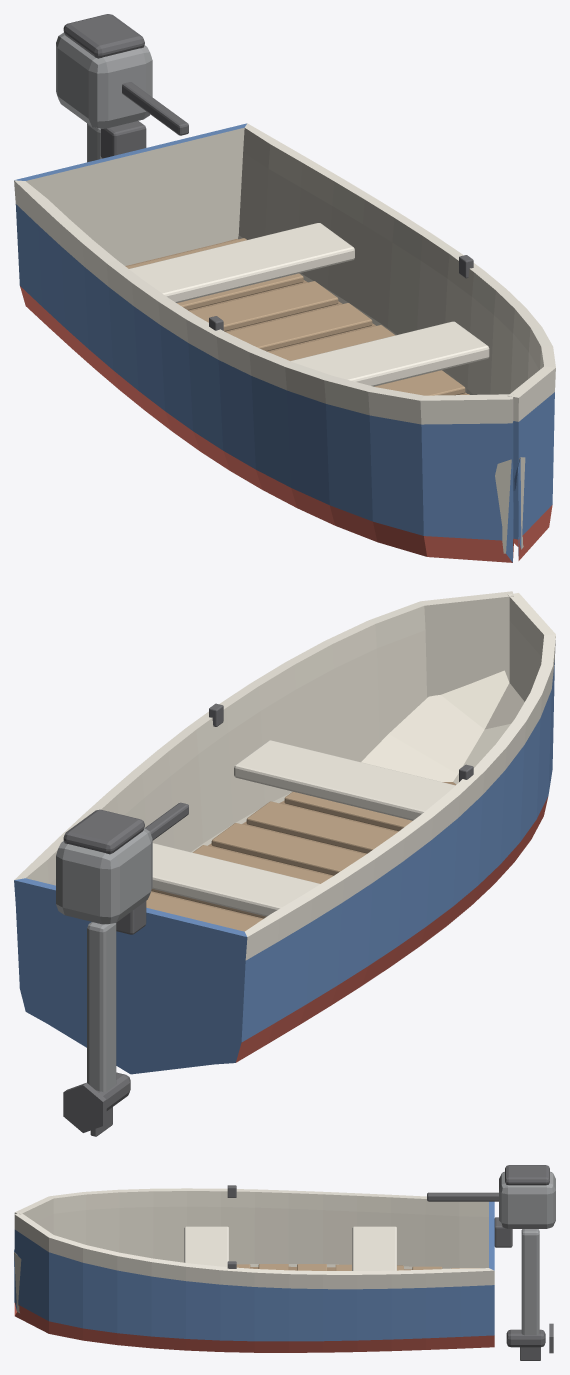
Rendered from boat.glb.
3 views of the same model, one above another, from view 1: azimuth 30°, elevation 25°; view 2: azimuth 150°, elevation 25°; view 3: azimuth 270°, elevation 25° (orthographic). The views are drawn at different scales.
Visible parts, largest first — view 1: boat_hull, boat_thwart_rear, boat_thwart_front, motor_cowl, boat_floor_2, boat_floor_3, motor_cap, boat_floor_4, boat_floor_6, motor_clamp, boat_floor_1, motor_tiller (+1 smaller); view 2: boat_hull, boat_thwart_front, motor_cowl, boat_thwart_rear, motor_shaft, boat_floor_6, boat_floor_7, motor_cap, boat_floor_3, boat_floor_8, motor_prop, boat_floor_5 (+2 smaller); view 3: boat_hull, motor_cowl, boat_thwart_rear, motor_shaft, boat_thwart_front, motor_cap, motor_tiller, motor_foot, motor_clamp, motor_skeg.
Boxes of the visible parts, left/top/right/bottom form: boat_hull: left=14, top=123, right=555, bottom=562; boat_thwart_rear: left=129, top=223, right=354, bottom=302; boat_thwart_front: left=290, top=321, right=489, bottom=386; motor_cowl: left=56, top=32, right=152, bottom=128; boat_floor_2: left=190, top=281, right=338, bottom=331; boat_floor_3: left=226, top=303, right=372, bottom=351; motor_cap: left=63, top=14, right=144, bottom=58; boat_floor_4: left=269, top=325, right=395, bottom=360; boat_floor_6: left=374, top=370, right=465, bottom=395; motor_clamp: left=100, top=121, right=146, bottom=158; boat_floor_1: left=177, top=273, right=303, bottom=310; motor_tiller: left=122, top=82, right=188, bottom=135; boat_hull: left=14, top=591, right=555, bottom=1074; boat_thwart_front: left=234, top=740, right=455, bottom=820; motor_cowl: left=56, top=828, right=152, bottom=924; boat_thwart_rear: left=152, top=843, right=319, bottom=916; motor_shaft: left=87, top=922, right=116, bottom=1092; boat_floor_6: left=211, top=823, right=365, bottom=875; boat_floor_7: left=246, top=801, right=397, bottom=853; motor_cap: left=63, top=809, right=144, bottom=854; boat_floor_3: left=146, top=892, right=262, bottom=931; boat_floor_8: left=284, top=791, right=412, bottom=831; motor_prop: left=63, top=1082, right=106, bottom=1132; boat_floor_5: left=193, top=845, right=332, bottom=883; boat_hull: left=14, top=1188, right=494, bottom=1352; motor_cowl: left=499, top=1171, right=555, bottom=1228; boat_thwart_rear: left=352, top=1226, right=396, bottom=1270; motor_shaft: left=521, top=1229, right=539, bottom=1335; boat_thwart_front: left=184, top=1226, right=228, bottom=1266; motor_cap: left=505, top=1165, right=549, bottom=1185; motor_tiller: left=427, top=1192, right=498, bottom=1201; motor_foot: left=506, top=1329, right=545, bottom=1347; motor_clamp: left=494, top=1217, right=512, bottom=1247; motor_skeg: left=520, top=1347, right=540, bottom=1360.
Size of the model in its own units: 1.32 by 1.39 by 3.61.
